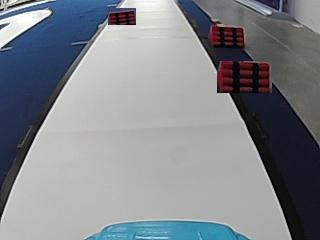bomb: (207, 24, 245, 46)
